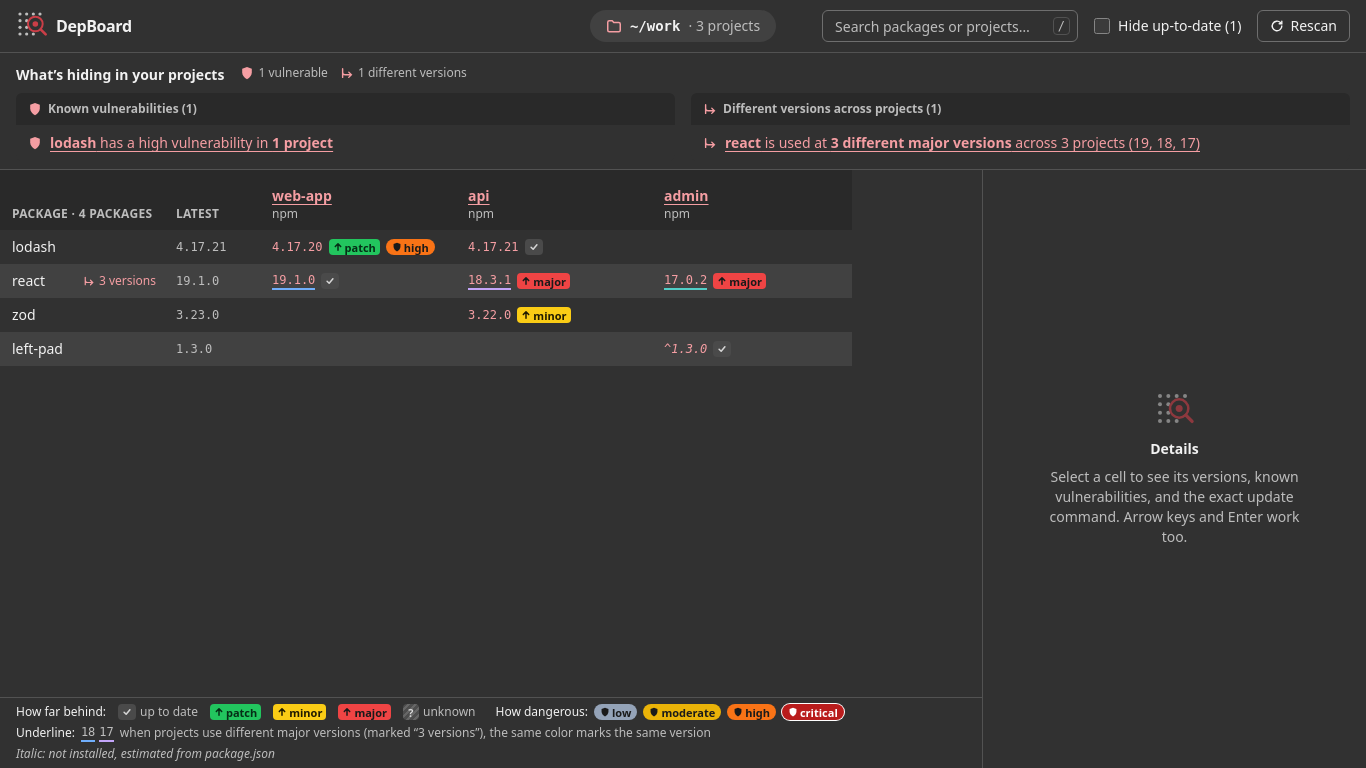
Scenario: narrowing the matrix › filters to an insight’s packages and projects, and back
Later steps or results of the test are not shown.
What coordinates should you click on to do the following:
click the button "lodash has a high vulnerability in 1 project"
I would click on:
 (73, 142)
Its box is [16,125,675,161].
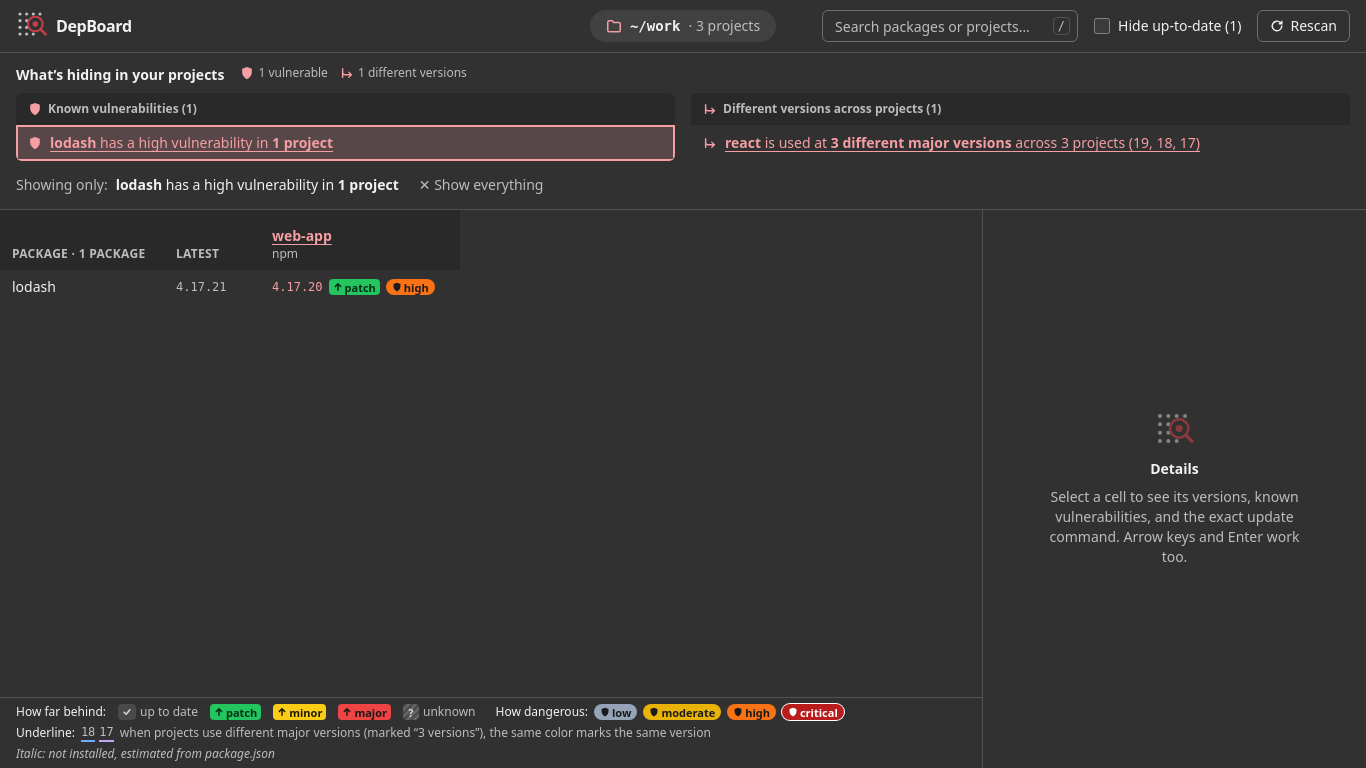
Expected: the number of column headings is 3, [0,210,168,270]; [168,210,264,270]; [272,226,332,262]
Now the button "lodash has a high vulnerability in 1 project" is pressed, box [16,125,675,161]
